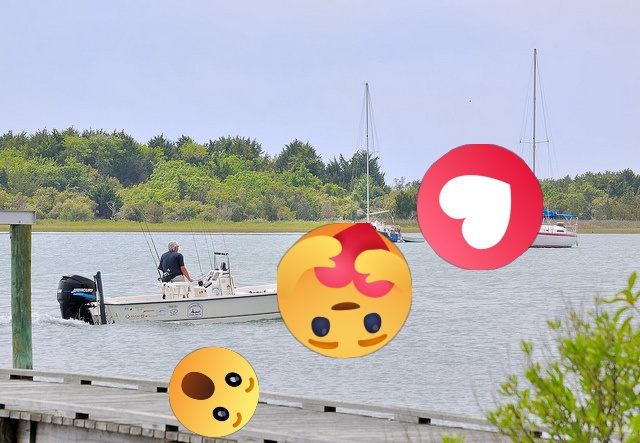care: (277, 223, 412, 358)
love: (417, 144, 543, 270)
wow: (169, 347, 259, 437)
